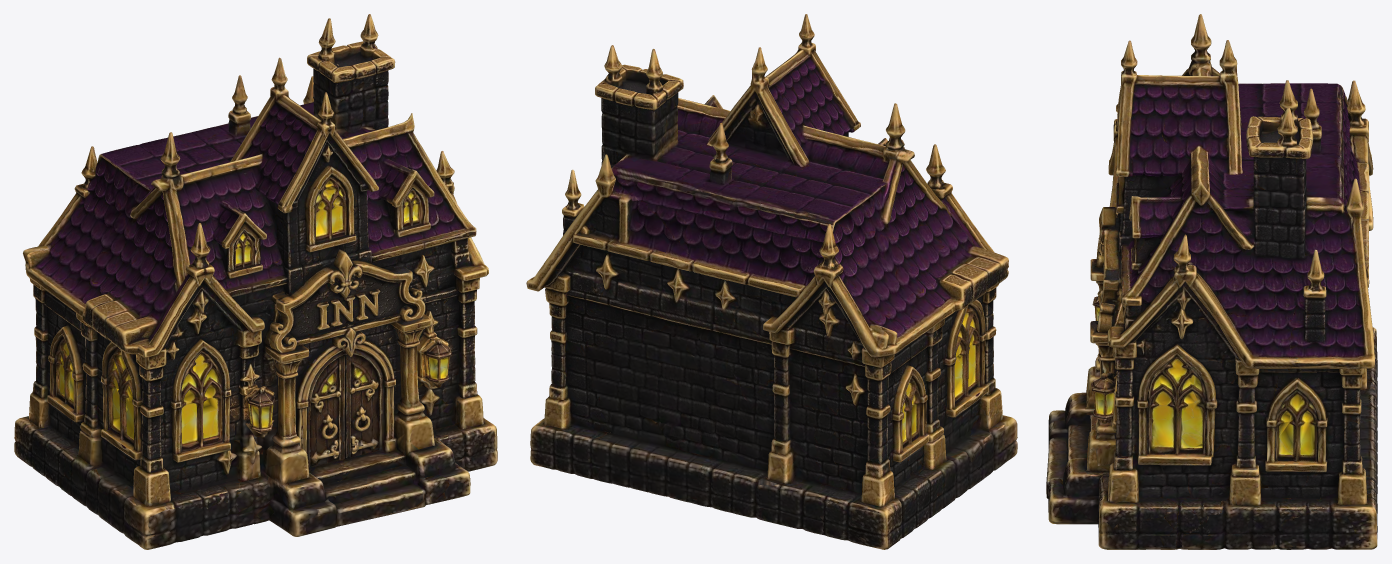
File: inn.glb
3 renders of one model, left to right at view 1: azimuth 30°, elevation 25°; view 2: azimuth 150°, elevation 25°; view 3: azimuth 270°, elevation 25°, orthographic. The views are drawn at different scales.
Bounding box in the file's own units: 1.81 × 1.9 × 1.33.
1 material, 1 textured.
